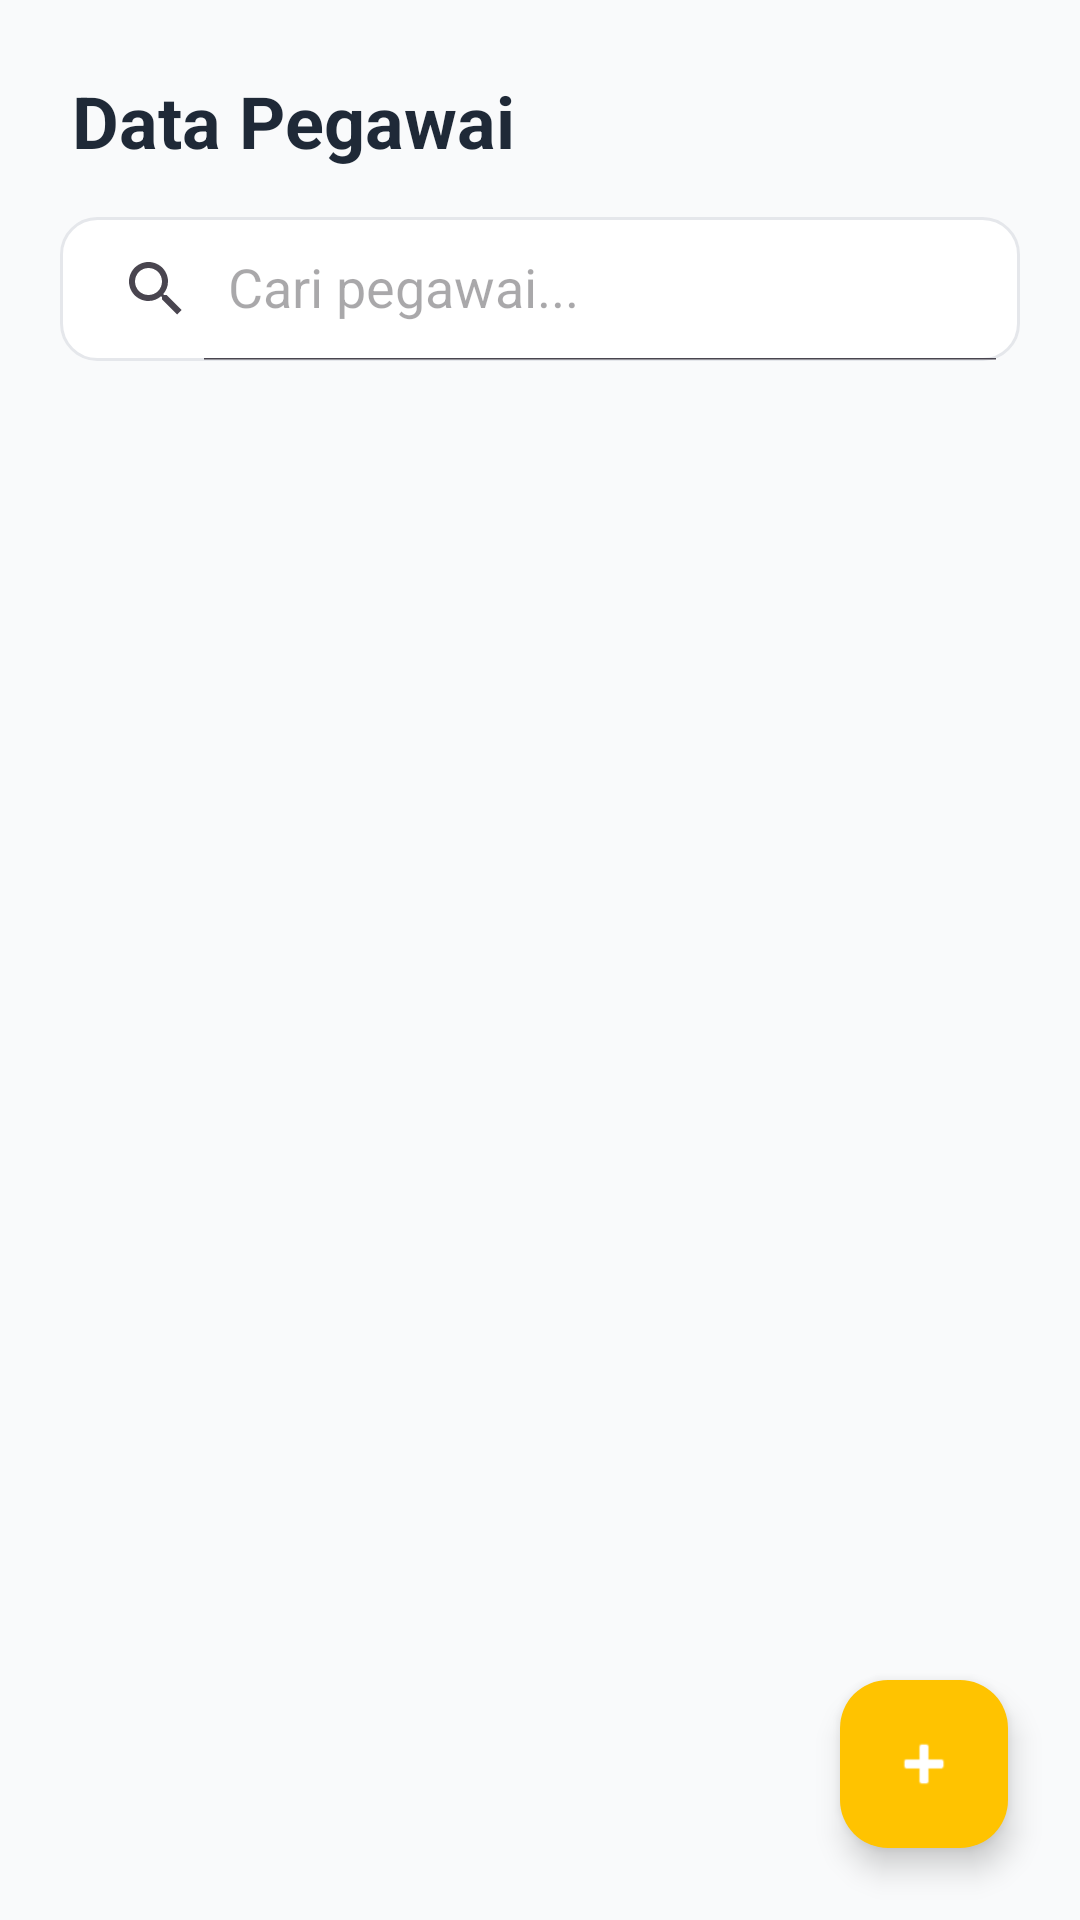

Screen size 1080px x 1920px. Icon name, then its box in pixels as (x1, y1, x2, y2):
Tambah Pegawai: (840, 1680, 1008, 1848)
